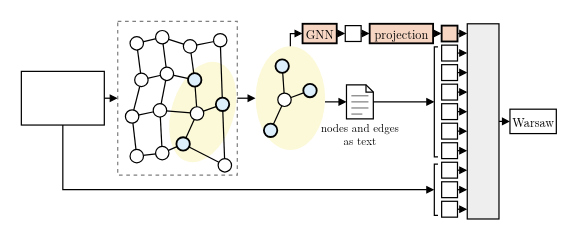
Image size: 578x240. Some labels were removed from this diagram. Each missing label, with the box of its shape:
LLM: (466, 23, 499, 219)
Where was Pierre Curie’s wife born?: (20, 70, 104, 125)
